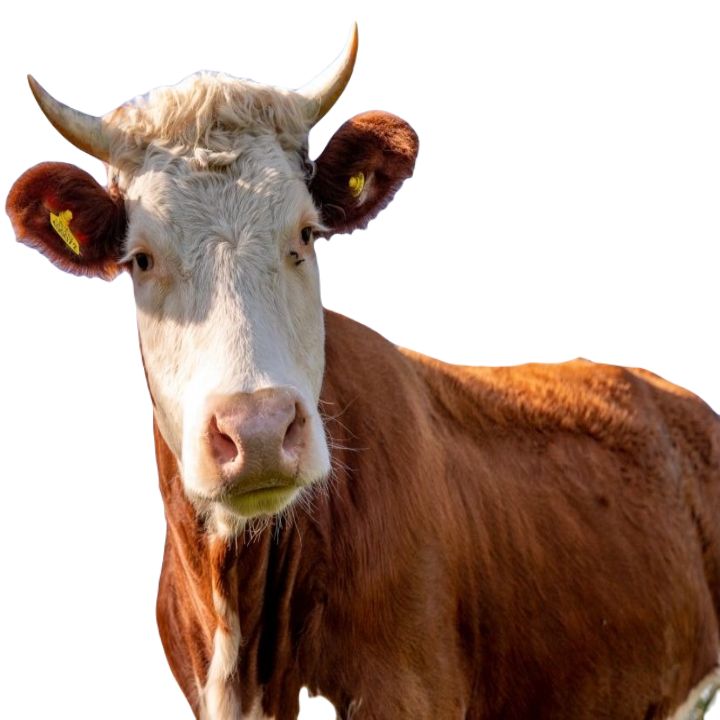Cow: (1, 24, 719, 719)
